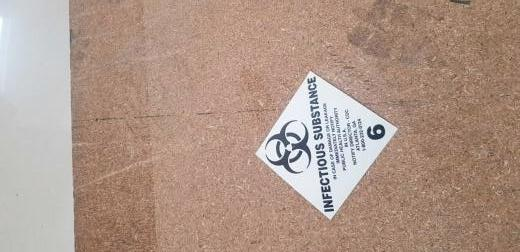infectious-substance: (254, 70, 398, 221)
